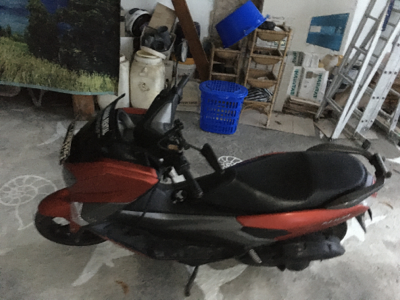moto: (43, 73, 387, 286)
